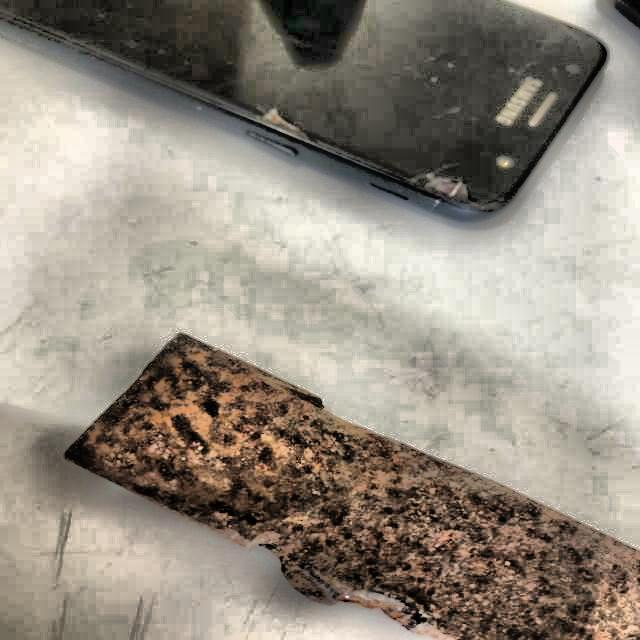Pitting Corrosion: (66, 334, 639, 639)
